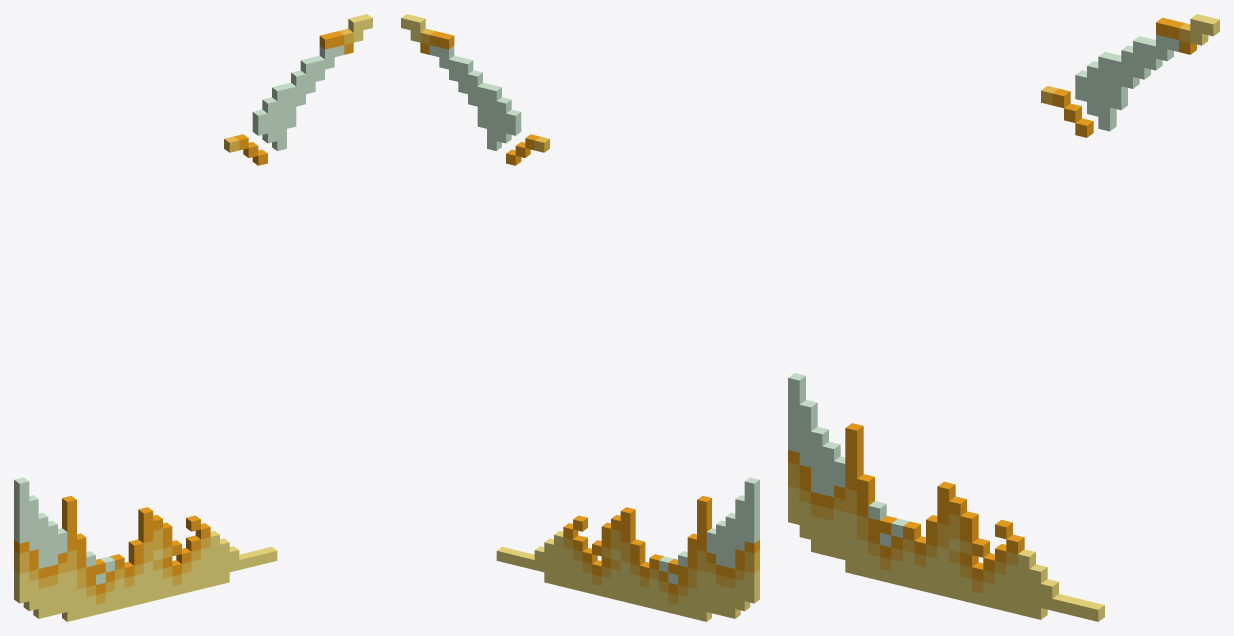
Rendered from Fight_720_2_17_fx.obj.
The picture shows the model from 3 angles, left to right: view 1: azimuth 30°, elevation 25°; view 2: azimuth 150°, elevation 25°; view 3: azimuth 330°, elevation 25°; orthographic projection. The views are drawn at different scales.
Size of the model in its own units: 3.7 by 5.3 by 0.1.
